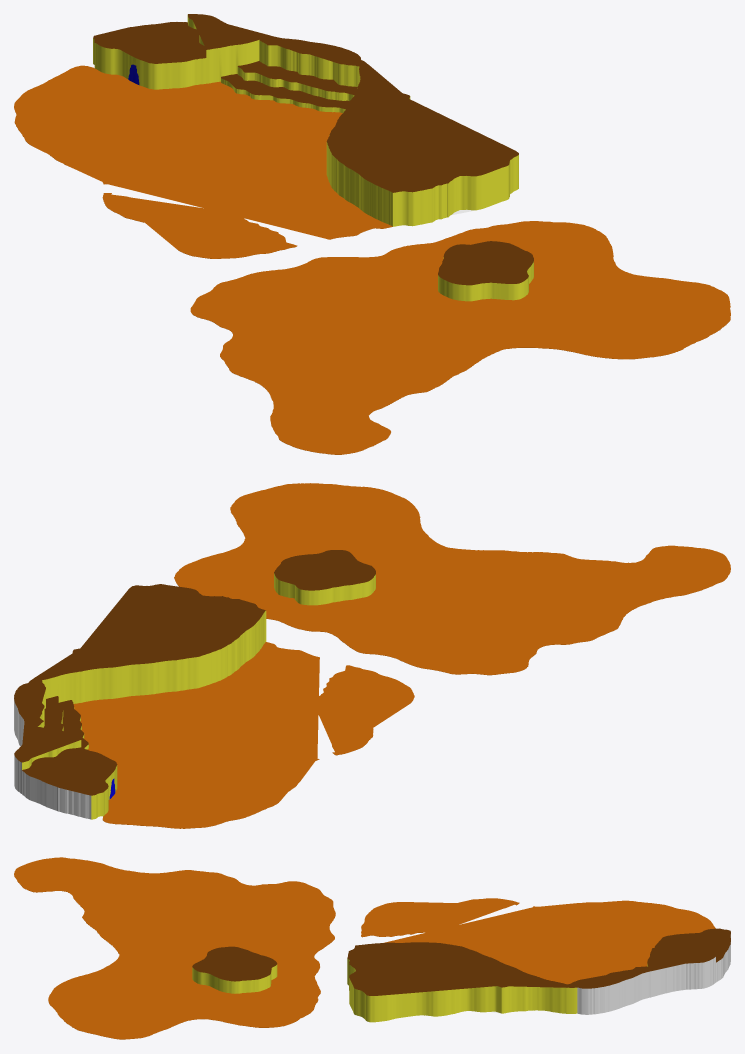
File: incilanin_leveli11.fbx
3 views of the same model, one above another, from view 1: azimuth 30°, elevation 25°; view 2: azimuth 150°, elevation 25°; view 3: azimuth 270°, elevation 25° (orthographic). The views are drawn at different scales.
Parts seen in each view (by area): view 1: Model; view 2: Model; view 3: Model.
Boxes of the visible parts, box(x1,y1,x2,y2) form: Model: box(14, 14, 730, 454); Model: box(14, 483, 730, 828); Model: box(14, 857, 730, 1039).
Size of the model in its own units: 3.14 by 0.21 by 5.22.
